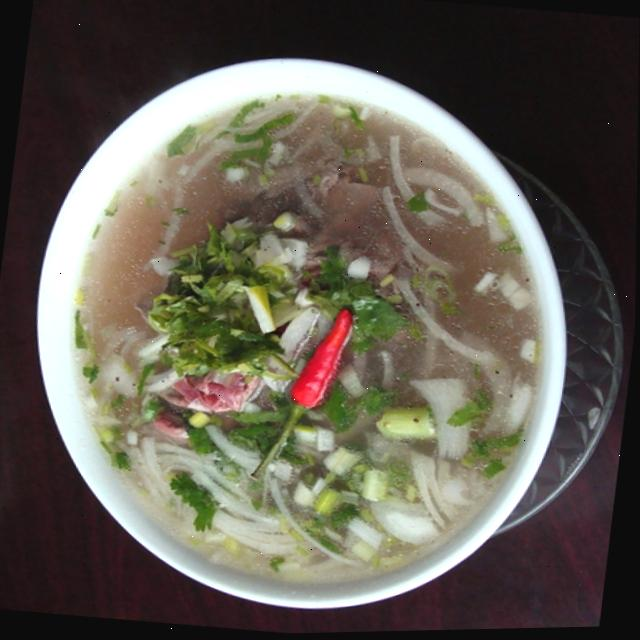面条主食: (11, 24, 634, 640)
